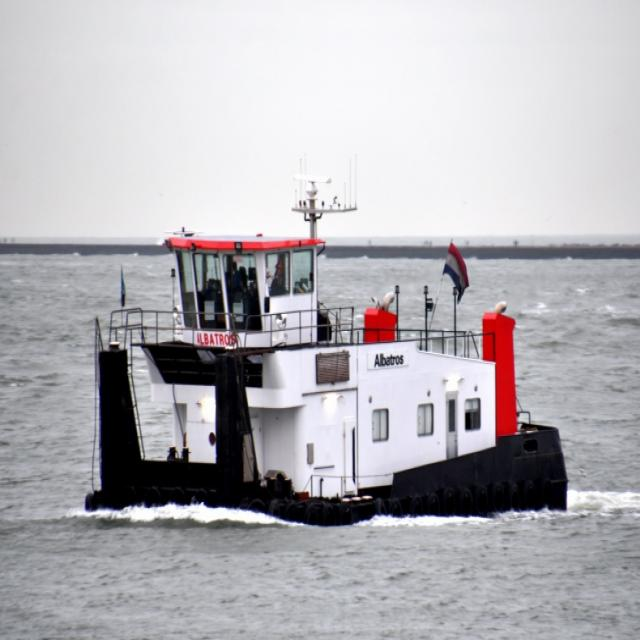tugboat: (80, 172, 576, 529)
